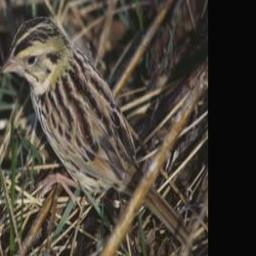Sparrow: (0, 10, 194, 255)
